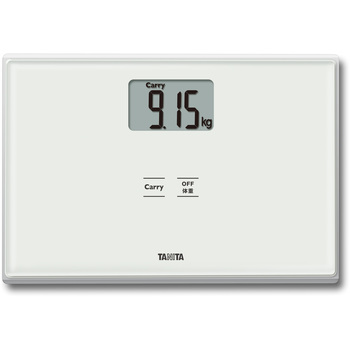LCD: (128, 79, 215, 132)
